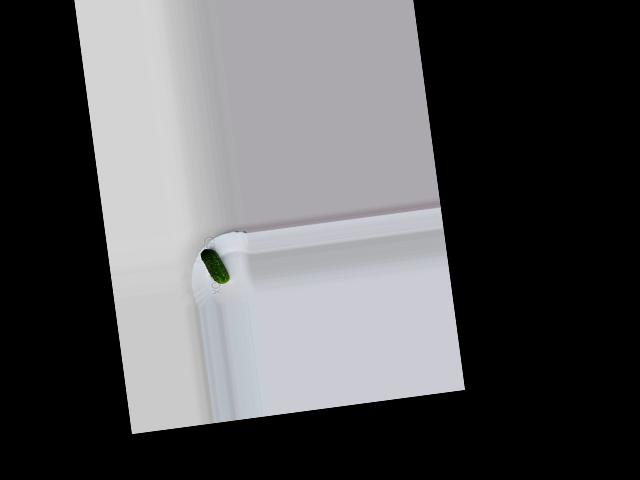cucumber: (200, 247, 230, 286)
